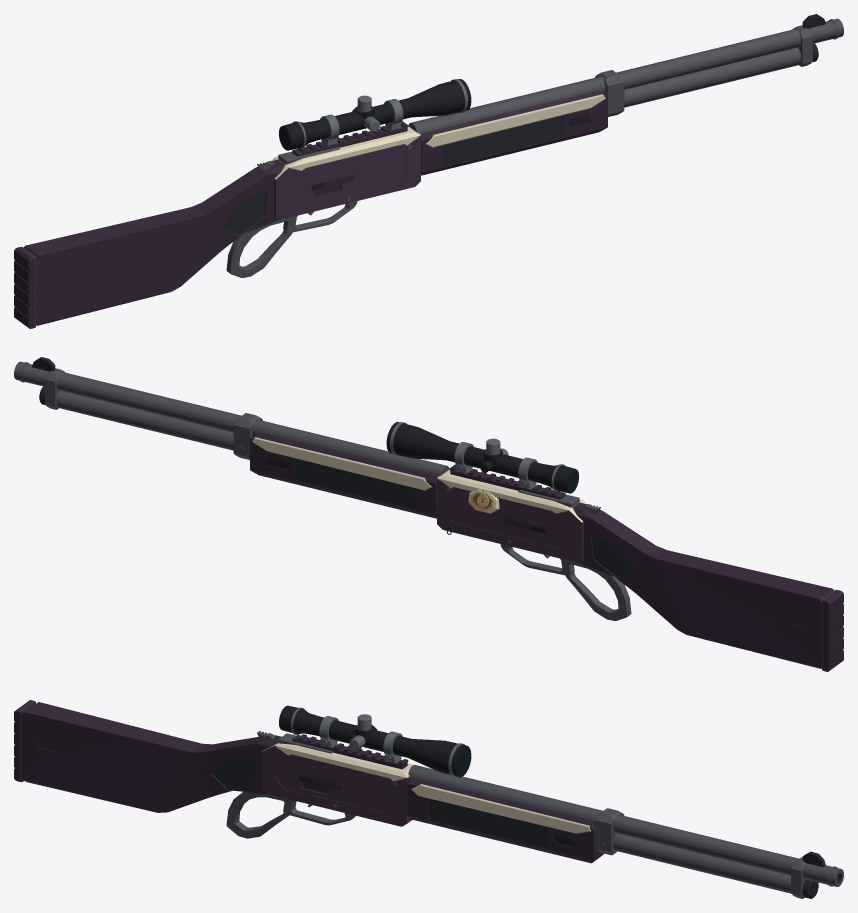
File: Marshal_Sundial_v01.fbx
3 views of the same model, one above another, from view 1: azimuth 30°, elevation 25°; view 2: azimuth 150°, elevation 25°; view 3: azimuth 330°, elevation 25° (orthographic).
Parts seen in each view (by area): view 1: Marshal_Stock, Marshal_Barrel, Marshal_Receiver, Marshal_ForeEnd, Marshal_Scope, Sundial_ForeEndSpine_R, Marshal_Lever; view 2: Marshal_Stock, Marshal_Barrel, Marshal_Receiver, Marshal_ForeEnd, Marshal_Scope, Sundial_ForeEndSpine_L, Marshal_Lever; view 3: Marshal_Stock, Marshal_Barrel, Marshal_Receiver, Marshal_ForeEnd, Marshal_Scope, Sundial_ForeEndSpine_R, Marshal_Lever.
Boxes of the visible parts, x1,y1,x2,y2 form: Marshal_Stock: [14, 159, 285, 328]; Marshal_Barrel: [408, 14, 843, 133]; Marshal_Receiver: [271, 121, 420, 218]; Marshal_ForeEnd: [420, 90, 607, 175]; Marshal_Scope: [279, 79, 471, 150]; Sundial_ForeEndSpine_R: [426, 94, 605, 147]; Marshal_Lever: [226, 201, 357, 277]; Marshal_Stock: [572, 502, 843, 671]; Marshal_Barrel: [14, 357, 449, 476]; Marshal_Receiver: [437, 464, 586, 561]; Marshal_ForeEnd: [250, 433, 437, 518]; Marshal_Scope: [386, 422, 578, 493]; Sundial_ForeEndSpine_L: [252, 437, 431, 490]; Marshal_Lever: [500, 544, 631, 620]; Marshal_Stock: [14, 700, 281, 812]; Marshal_Barrel: [408, 765, 843, 898]; Marshal_Receiver: [262, 734, 414, 826]; Marshal_ForeEnd: [407, 777, 603, 863]; Marshal_Scope: [279, 705, 471, 777]; Sundial_ForeEndSpine_R: [411, 784, 591, 833]; Marshal_Lever: [226, 791, 355, 838].
Bounding box in the file's own units: 444 × 77.13 × 19.19.
15 materials, 11 textured.
